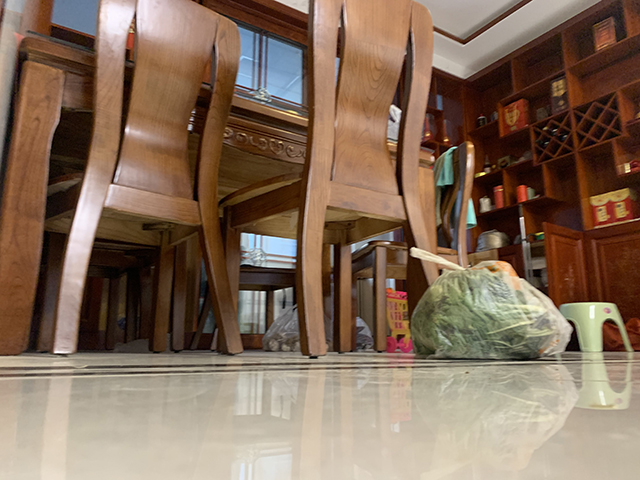cabinet: (535, 215, 640, 349)
stool: (213, 1, 437, 359), (31, 1, 243, 356), (350, 140, 473, 354), (560, 300, 635, 354)
